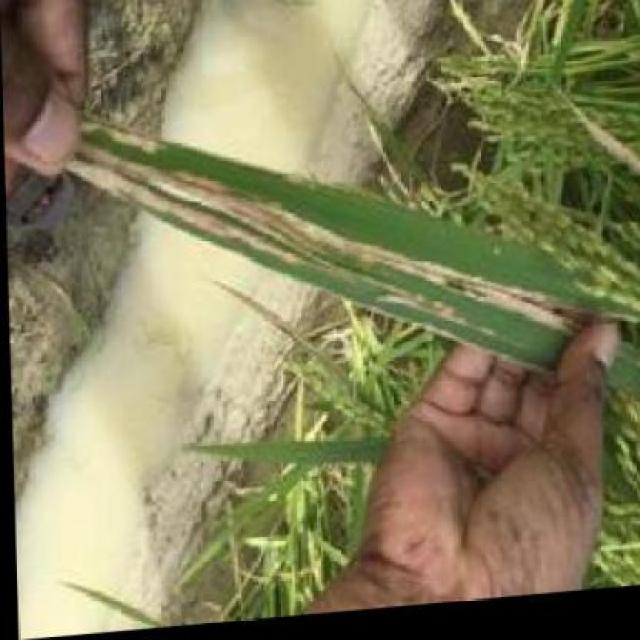Brown_Spot: (58, 153, 592, 402)
